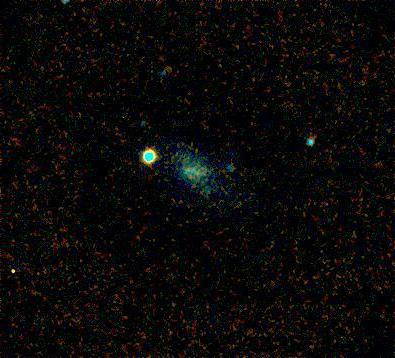star: (0, 255, 30, 285)
